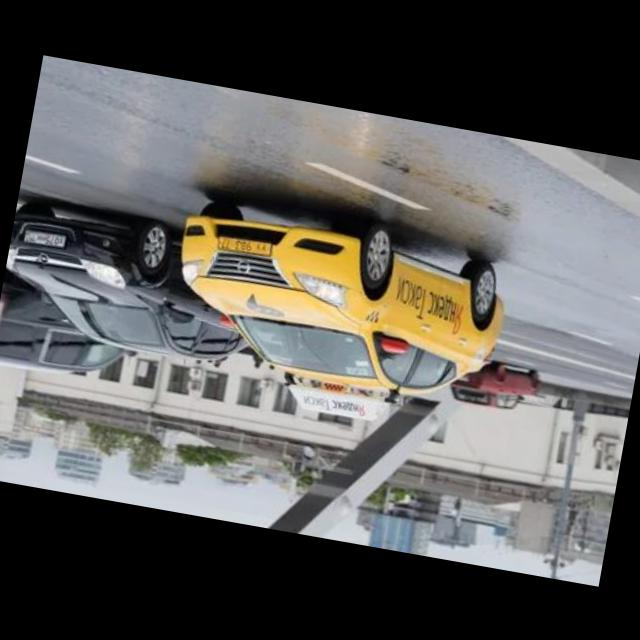taxi: (156, 190, 516, 444)
